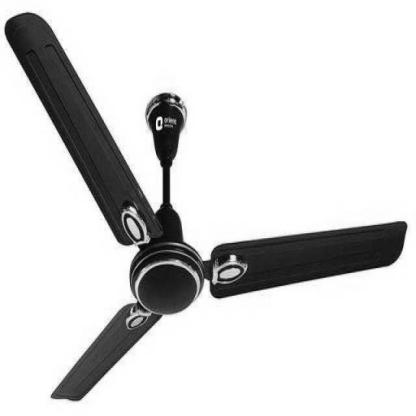ceiling-fan: (3, 11, 409, 400)
